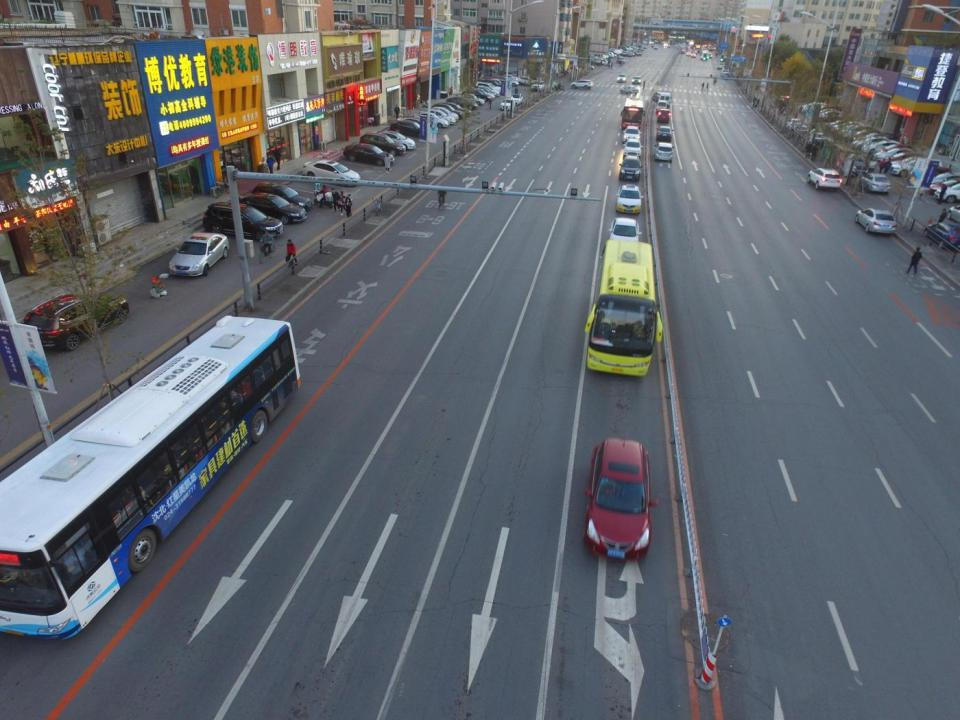bus: (0, 313, 302, 642), (584, 236, 664, 377), (621, 96, 645, 130)
car: (582, 436, 660, 565), (18, 289, 130, 351), (198, 201, 283, 241), (167, 229, 229, 280), (236, 192, 308, 224), (252, 181, 313, 211), (300, 158, 362, 186), (853, 206, 898, 236), (342, 140, 395, 164), (356, 132, 406, 153), (891, 159, 942, 179), (909, 165, 954, 187), (606, 217, 644, 243), (925, 221, 960, 249), (614, 182, 644, 214), (891, 156, 930, 180), (806, 167, 843, 192), (376, 129, 416, 151), (880, 151, 925, 170), (874, 146, 918, 165), (401, 115, 438, 137), (857, 172, 892, 195), (872, 143, 915, 161), (855, 136, 898, 154), (390, 120, 428, 140), (853, 130, 894, 148), (850, 135, 892, 152), (842, 148, 869, 174), (862, 140, 903, 156), (619, 155, 643, 182), (928, 170, 960, 190), (836, 125, 871, 142), (415, 112, 450, 128), (431, 104, 466, 120), (440, 100, 471, 118), (427, 105, 459, 122), (848, 129, 881, 145), (810, 104, 843, 120), (424, 109, 455, 126), (652, 142, 675, 163), (844, 125, 874, 141), (832, 122, 864, 137), (446, 95, 478, 109), (622, 138, 643, 159), (826, 118, 856, 132), (774, 93, 796, 112), (816, 109, 848, 122), (461, 88, 492, 101), (800, 101, 828, 114), (620, 126, 642, 142), (484, 77, 511, 90), (459, 93, 485, 106), (468, 87, 494, 100), (476, 83, 500, 97), (805, 129, 826, 145), (655, 125, 674, 142), (472, 86, 496, 99), (476, 82, 500, 95), (481, 80, 505, 93), (480, 80, 503, 93), (570, 79, 594, 91), (656, 108, 672, 124), (518, 73, 537, 86), (784, 117, 803, 130), (794, 124, 813, 137), (495, 76, 518, 86), (499, 99, 515, 112), (527, 73, 545, 84), (509, 93, 524, 106), (500, 74, 518, 84), (530, 80, 546, 91), (655, 101, 668, 114), (621, 86, 639, 95), (651, 91, 666, 101), (616, 73, 627, 83), (631, 75, 642, 85), (582, 62, 595, 70), (721, 68, 729, 76), (718, 61, 726, 69), (722, 72, 730, 79), (722, 66, 730, 73), (616, 57, 624, 63), (628, 50, 634, 57), (636, 50, 642, 56), (691, 52, 696, 58), (654, 44, 658, 50), (638, 46, 644, 50), (663, 42, 668, 46), (686, 52, 690, 56), (682, 49, 685, 54), (644, 45, 648, 48), (667, 45, 671, 48)
van: (657, 92, 671, 108)
